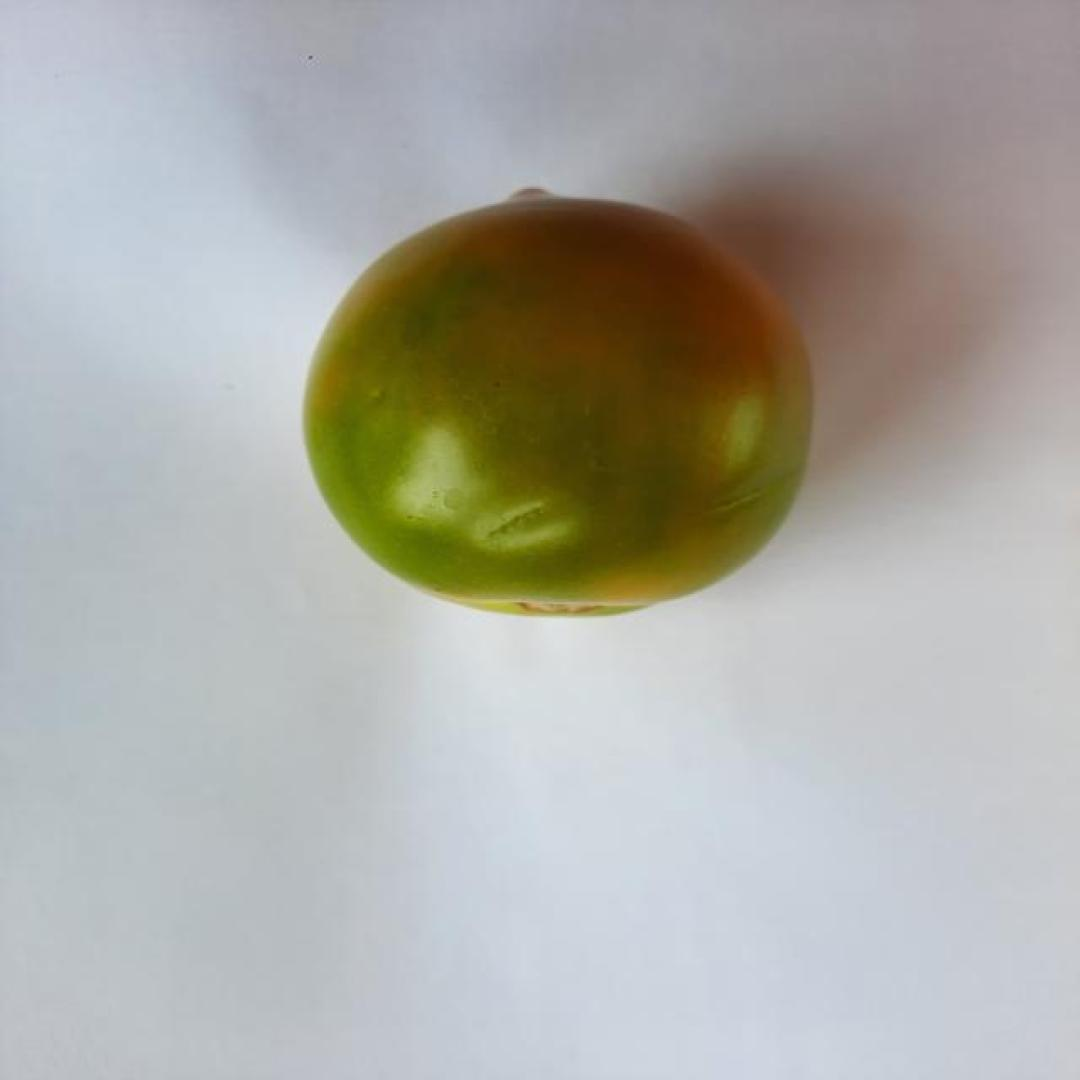setengah_matang: (295, 196, 820, 621)
